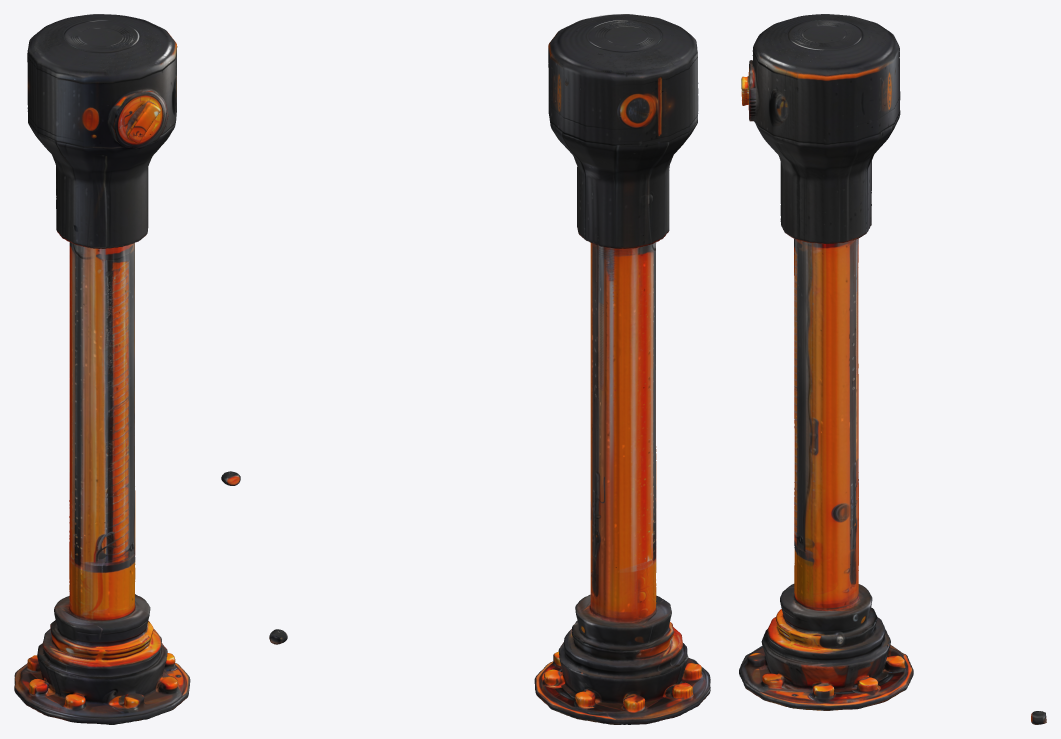
File: Heater_texture.glb
The picture shows the model from 3 angles, left to right: view 1: azimuth 30°, elevation 25°; view 2: azimuth 150°, elevation 25°; view 3: azimuth 270°, elevation 25°; orthographic projection.
Size of the model in its own units: 1.03 by 2 by 0.8729.
Materials: 1 (1 with a texture image).
